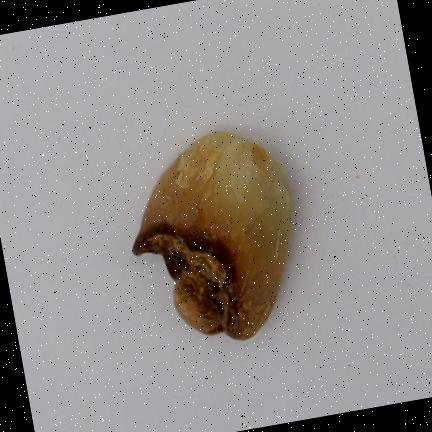cut: (133, 132, 291, 339)
